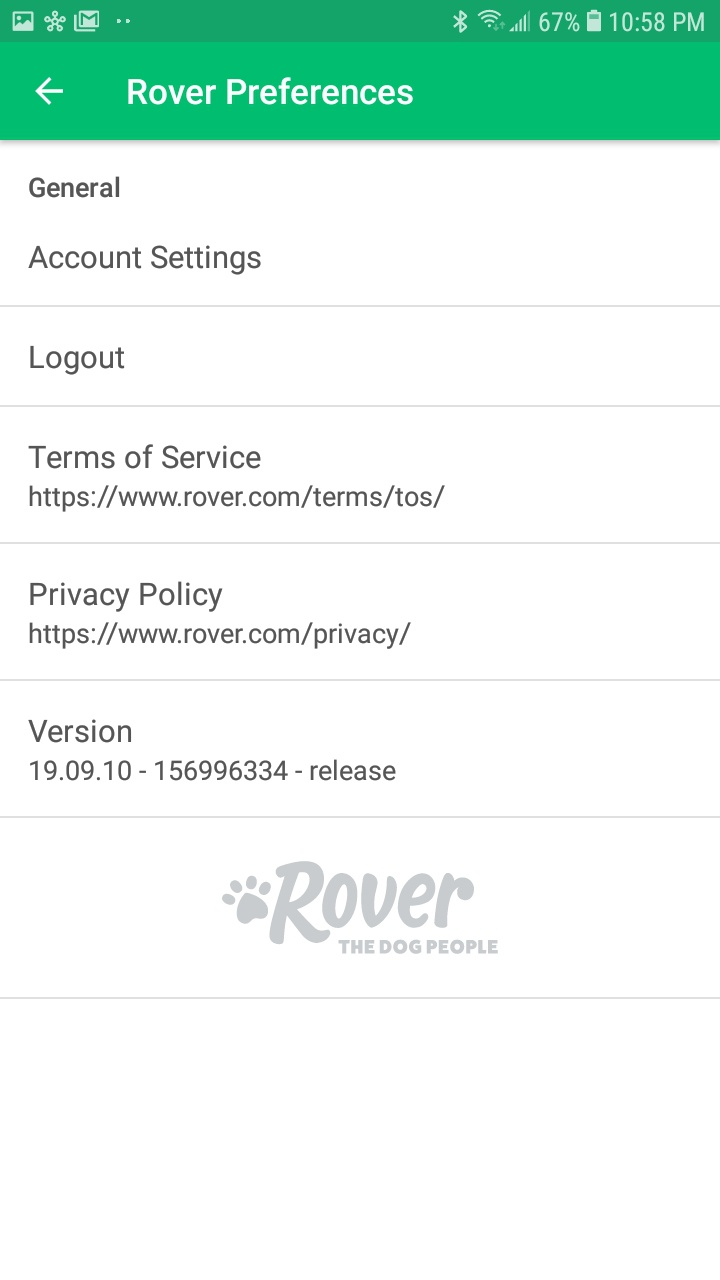Icon: (35, 77, 65, 107)
Image: (222, 861, 499, 955)
Text: (29, 484, 447, 513), (29, 621, 412, 650), (128, 77, 414, 107), (30, 759, 397, 782), (28, 245, 262, 276), (30, 581, 224, 614), (29, 444, 262, 471), (30, 346, 126, 377), (29, 719, 133, 744), (29, 176, 121, 199)
UpperTaskBar: (1, 1, 720, 43)
